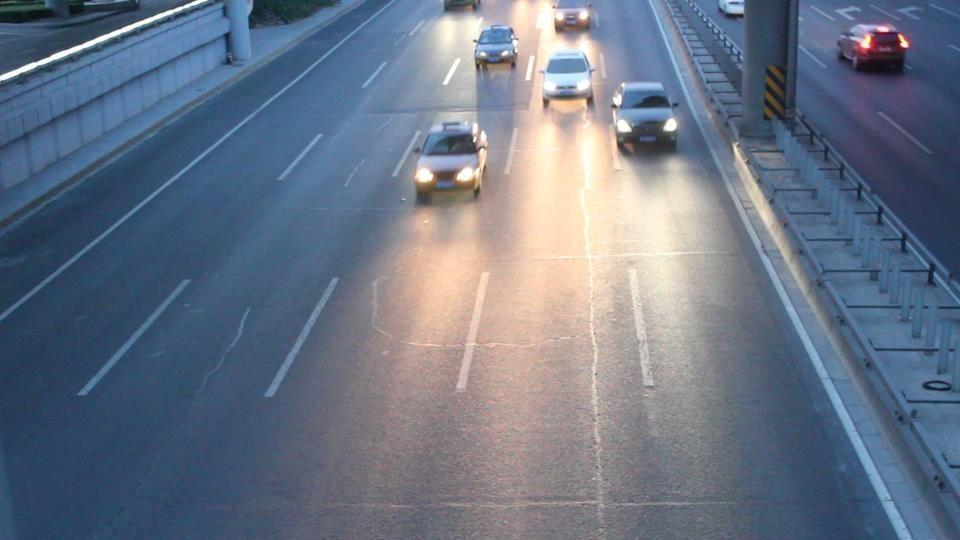car: (412, 120, 490, 201), (611, 81, 679, 153), (836, 22, 910, 72), (539, 48, 596, 104), (473, 25, 518, 68), (552, 1, 595, 33), (718, 0, 745, 18)
